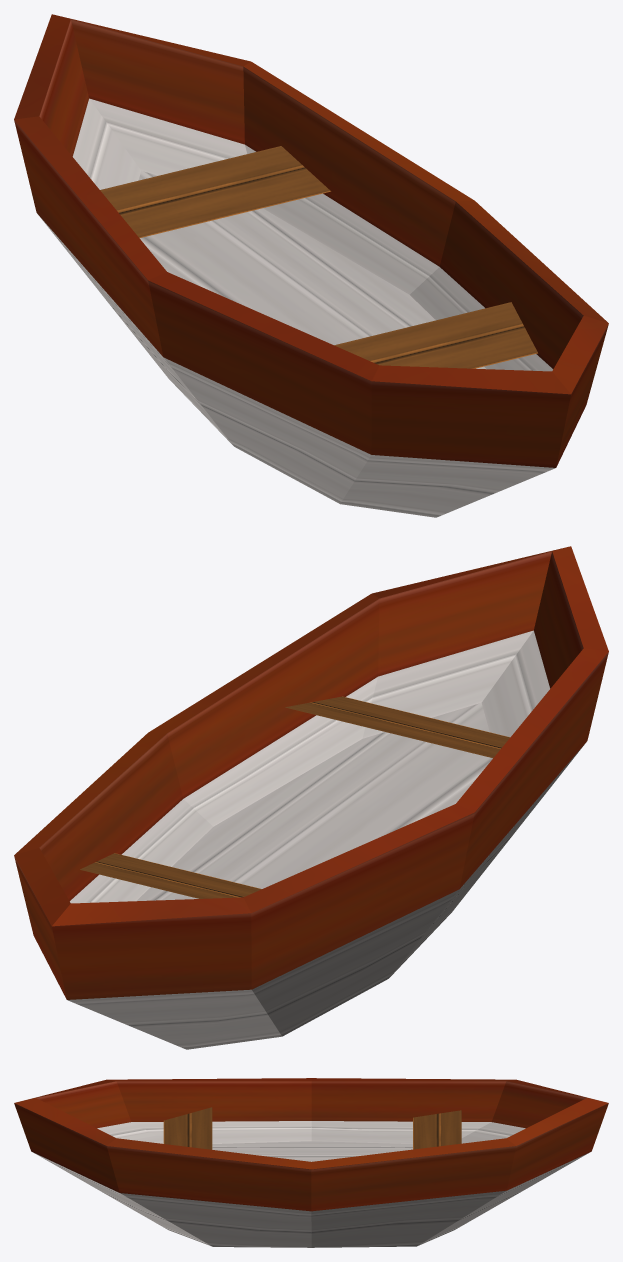
The model's file is co_Boat09.fbx.
The picture shows the model from 3 angles, top to bottom: view 1: azimuth 30°, elevation 25°; view 2: azimuth 150°, elevation 25°; view 3: azimuth 270°, elevation 25°; orthographic projection. The views are drawn at different scales.
Visible parts, largest first — view 1: Boat09; view 2: Boat09; view 3: Boat09.
Part boxes in pixels (<box>): Boat09: <box>14,14,608,517</box>; Boat09: <box>14,546,608,1049</box>; Boat09: <box>14,1078,608,1247</box>.
Bounding box in the file's own units: 822 × 560 × 2262.
